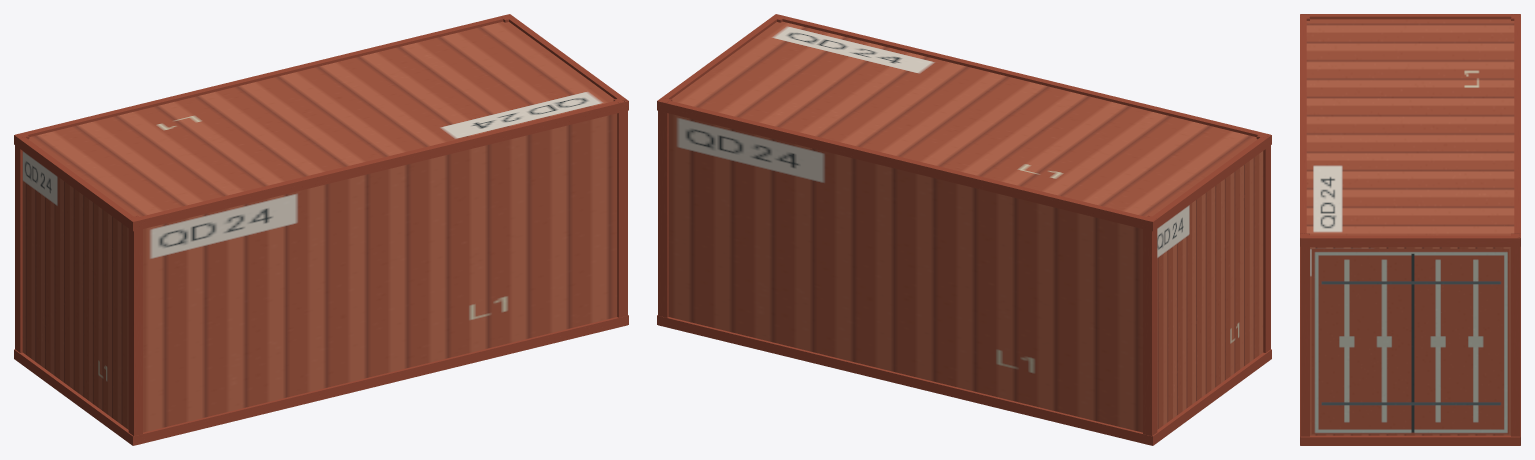
File: SM_QD_Container_Red.fbx
3 renders of one model, left to right at view 1: azimuth 30°, elevation 25°; view 2: azimuth 150°, elevation 25°; view 3: azimuth 270°, elevation 25°, orthographic. The views are drawn at different scales.
Visible parts, largest first — view 1: SM_QD_Container_Red; view 2: SM_QD_Container_Red; view 3: SM_QD_Container_Red.
Boxes of the visible parts, x1,y1,x2,y2 form: SM_QD_Container_Red: (14,14,628,445); SM_QD_Container_Red: (657,14,1271,445); SM_QD_Container_Red: (1300,14,1520,445).
Bounding box in the file's own units: 6.03 × 2.51 × 2.6.
1 material, 1 textured.
